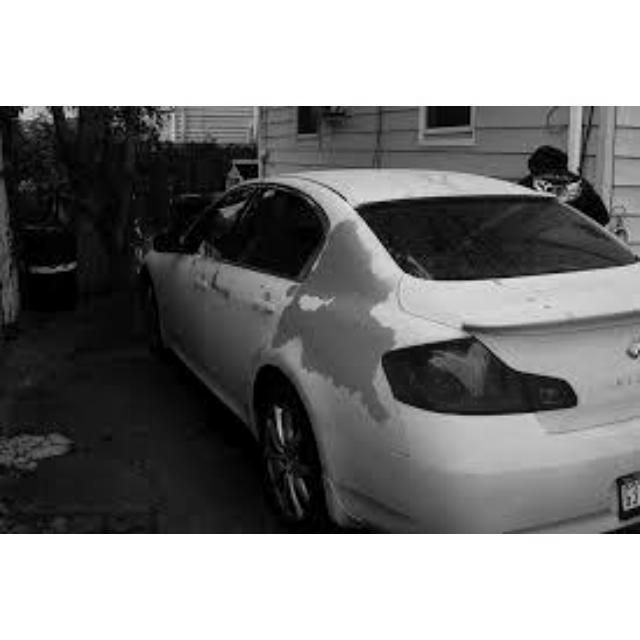quaterpanel-dent: (279, 283, 409, 515)
